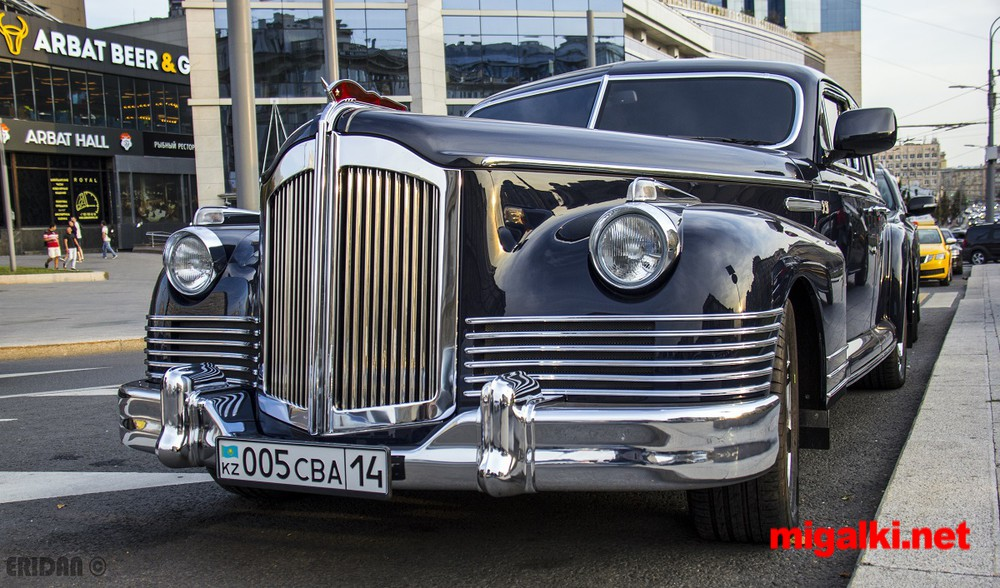license_plate: (217, 438, 391, 499)
